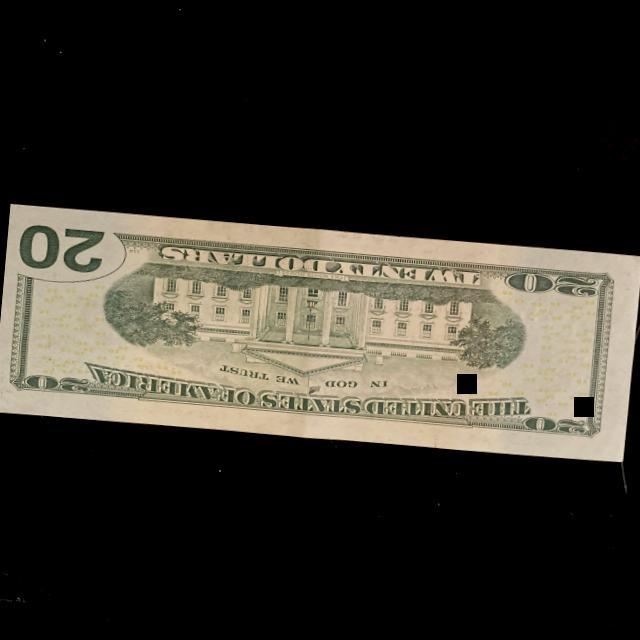twenty: (0, 199, 640, 467)
